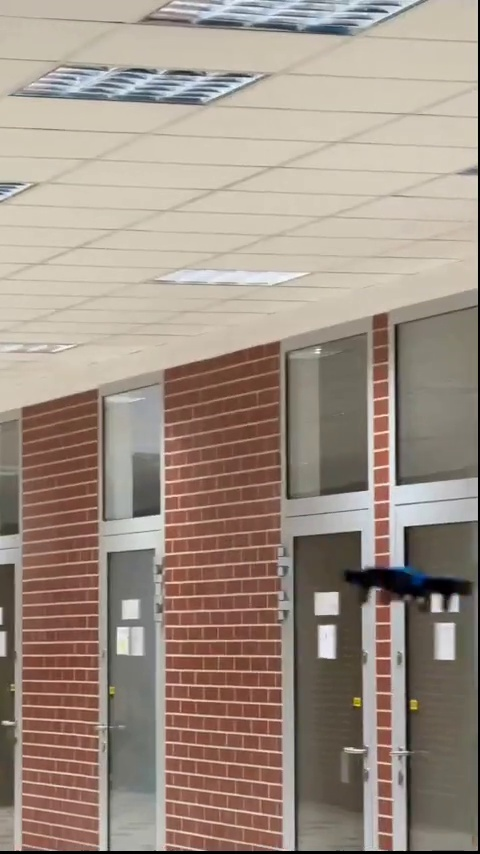drone: (345, 565, 476, 614)
